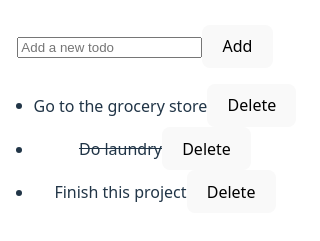
Test: TodoList › adds a new todo
Type "Buy milk" into the field with placeholder "Add a new todo". click: (110, 48)
box: [17, 37, 202, 58]
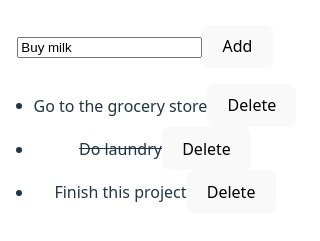
Click the button "Add". click: (237, 46)
box: [202, 25, 273, 68]
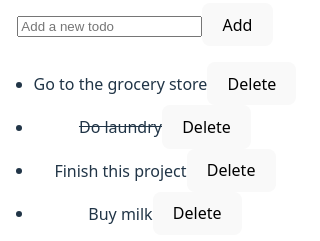
Now the list item "Buy milk" is shown, box [88, 202, 153, 224]
